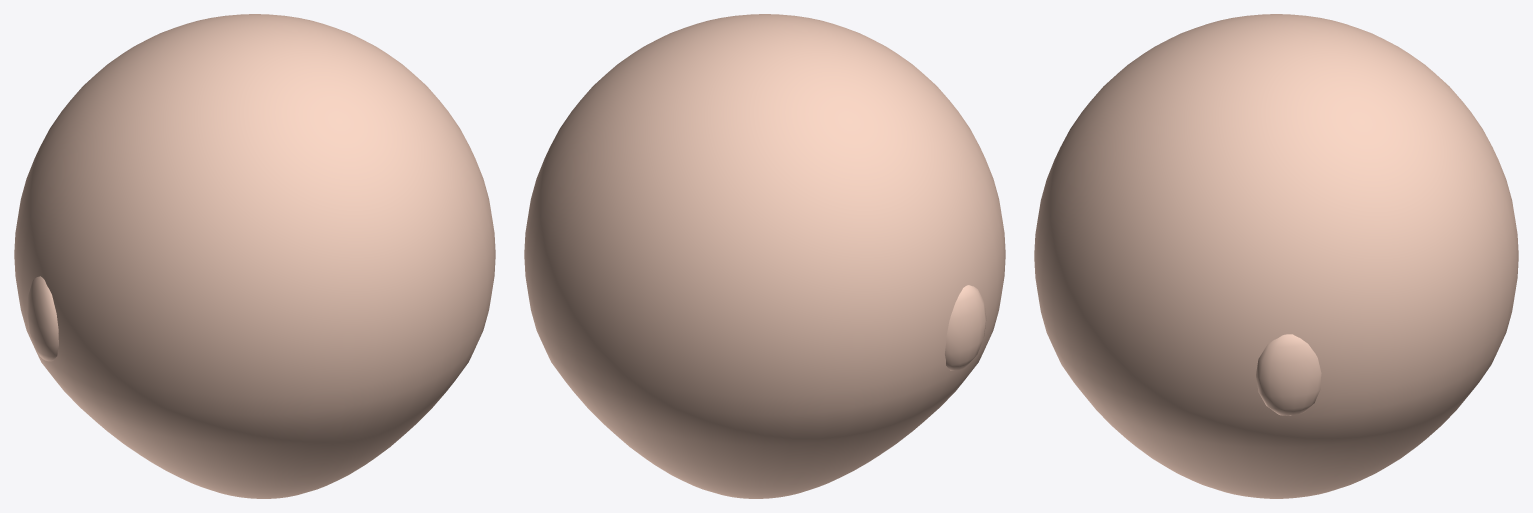
Rendered from char_head.glb.
3 renders of one model, left to right at view 1: azimuth 30°, elevation 25°; view 2: azimuth 150°, elevation 25°; view 3: azimuth 270°, elevation 25°, orthographic.
Visible parts, largest first — view 1: Sphere; view 2: Sphere; view 3: Sphere.
Part boxes in pixels (left/top/right/bottom): Sphere: left=14, top=14, right=495, bottom=498; Sphere: left=524, top=14, right=1005, bottom=498; Sphere: left=1034, top=14, right=1518, bottom=498.
Size of the model in its own units: 2.09 by 2.05 by 2.
